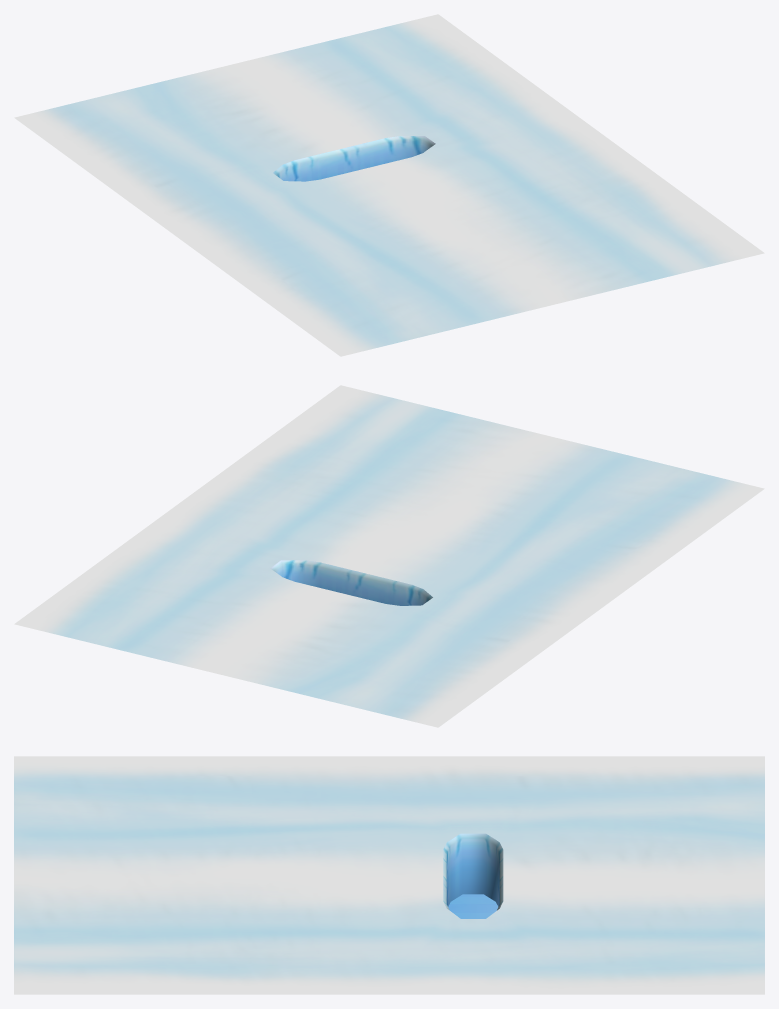
The model's file is Hole_S_Size_05.FBX.
3 renders of one model, top to bottom at view 1: azimuth 30°, elevation 25°; view 2: azimuth 150°, elevation 25°; view 3: azimuth 270°, elevation 25°, orthographic. The views are drawn at different scales.
Parts seen in each view (by area): view 1: modelRoad067; view 2: modelRoad067; view 3: modelRoad067.
Part boxes in pixels (x1,y1,x2,y2): modelRoad067: (14,14,764,356); modelRoad067: (14,385,764,727); modelRoad067: (14,756,764,994).
Bounding box in the file's own units: 600 × 70 × 800.
